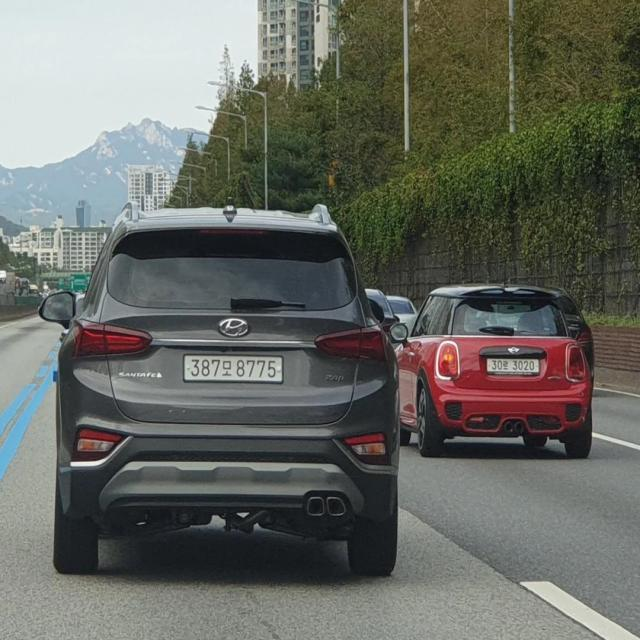car: (183, 350, 287, 389)
